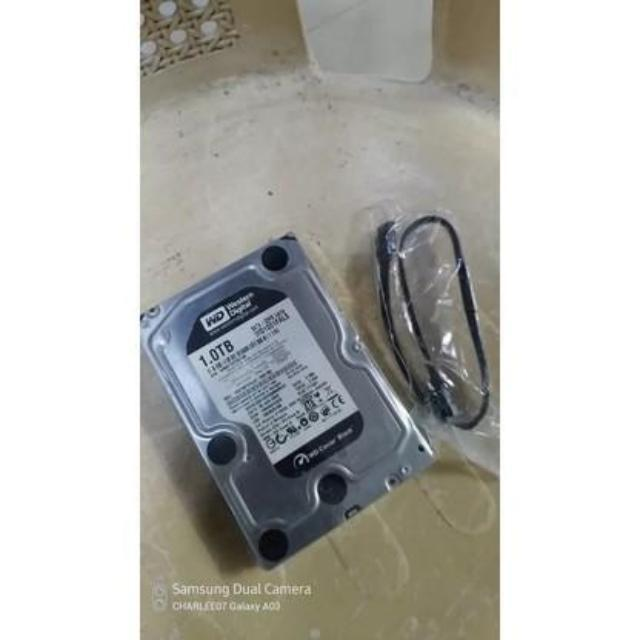DISK: (142, 228, 444, 572)
